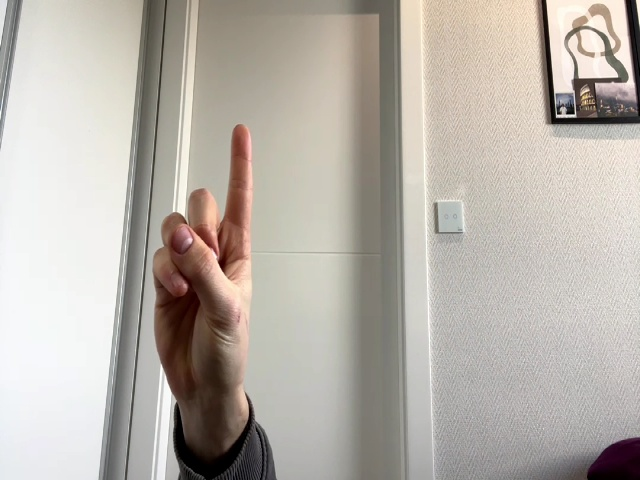Z: (153, 124, 253, 396)
